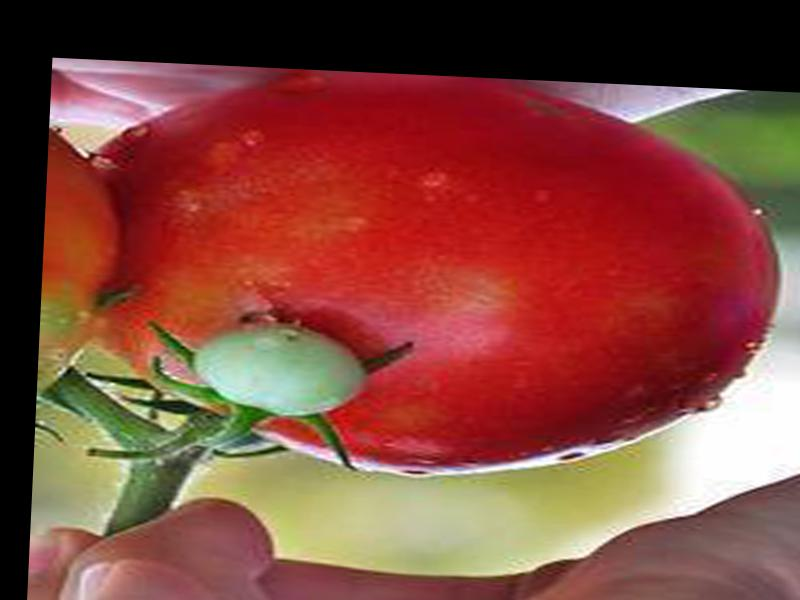Tomato: (81, 59, 786, 491)
